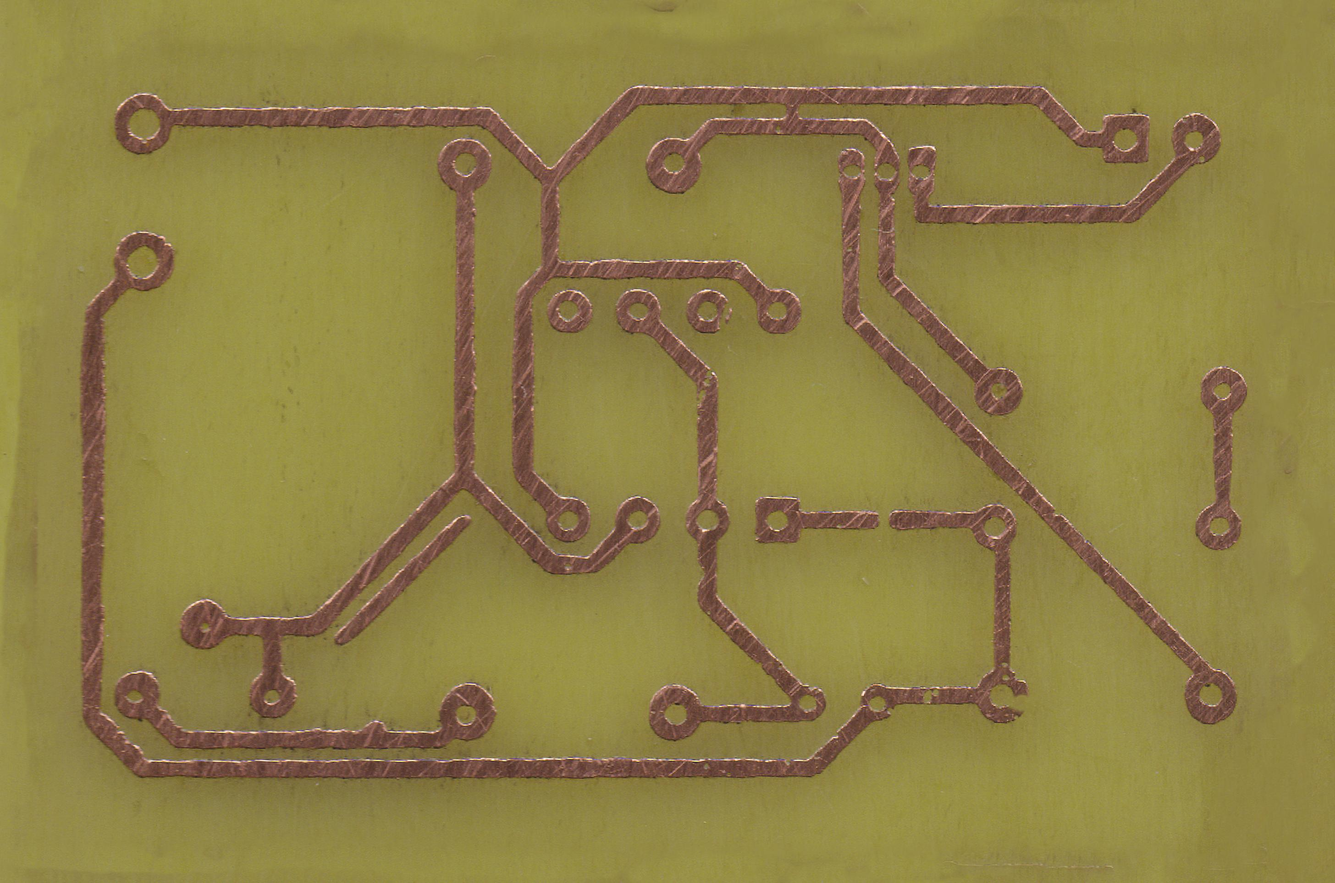missing_hole: (979, 669, 1030, 725), (685, 287, 731, 336)
mouse_bite: (696, 559, 711, 590)
open_circuit: (866, 509, 903, 532)
short: (773, 89, 814, 133)
spur: (359, 719, 389, 748)
spurious_copper: (334, 514, 474, 649)
